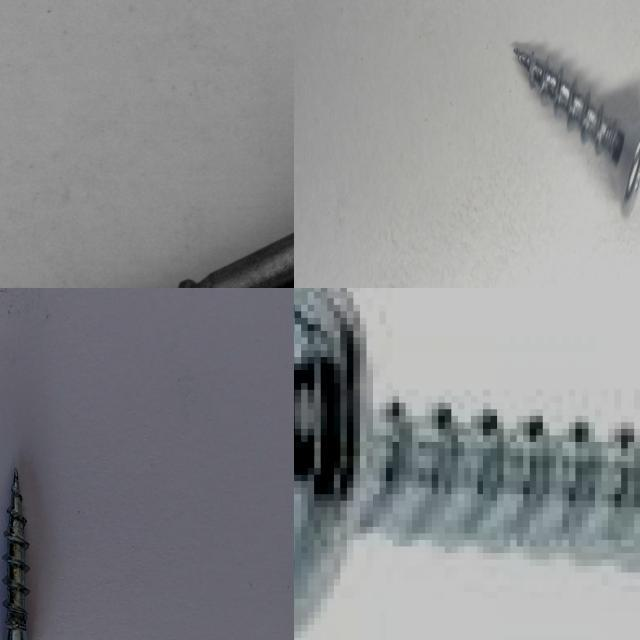Screw: (294, 288, 640, 637), (0, 105, 294, 288), (514, 46, 640, 215), (2, 468, 29, 640)
